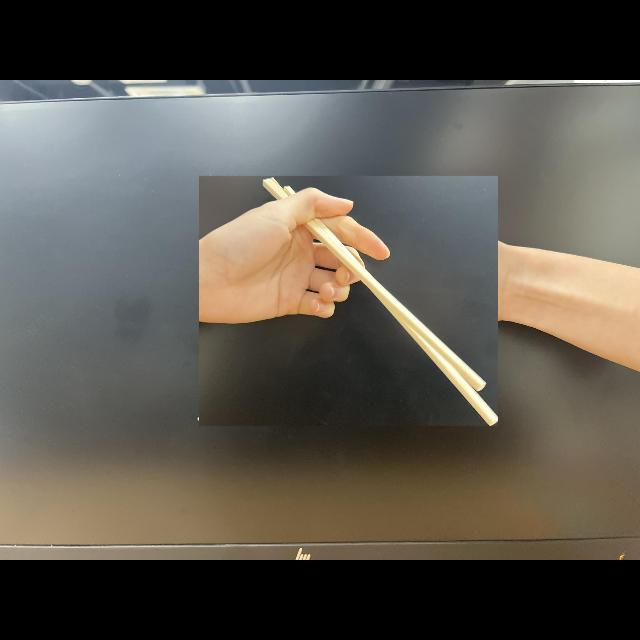stick: (200, 176, 498, 426)
